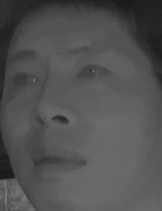eye: (73, 59, 113, 87), (6, 69, 40, 92)
mouth: (28, 143, 87, 178)
